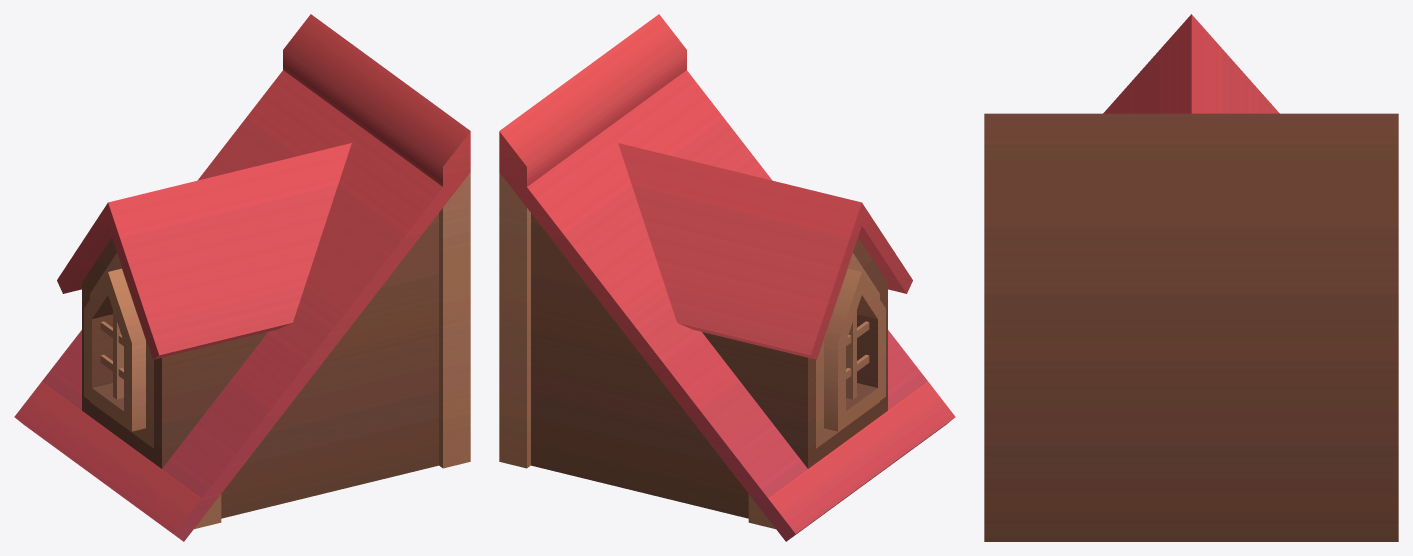
The model's file is roof-high-window.glb.
3 views of the same model, side by side, from view 1: azimuth 30°, elevation 25°; view 2: azimuth 150°, elevation 25°; view 3: azimuth 270°, elevation 25° (orthographic). The views are drawn at different scales.
Visible parts, largest first — view 1: roof-high-window; view 2: roof-high-window; view 3: roof-high-window.
Part boxes in pixels (x1,y1,x2,y2): roof-high-window: [14, 14, 470, 541]; roof-high-window: [499, 14, 955, 541]; roof-high-window: [984, 14, 1398, 541].
Bounding box in the file's own units: 1.07 × 1.18 × 1.
1 material, 1 textured.
